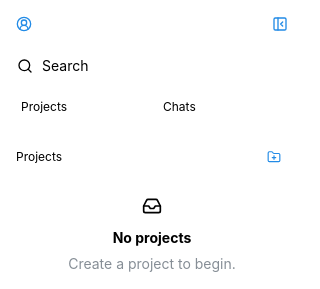
Test case: WorkspaceSidebar project reorder › collapses and expands the Chats section from the section row
What coordinates should you click on to do the following:
click the button "Chats"
I would click on:
 (223, 107)
Its box is 153,95 -> 293,119.
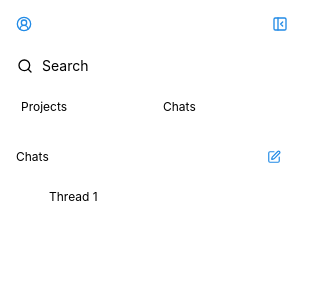
Expected: the button "Thread 1" is shown, 48,188 -> 256,206
What coordinates should you click on to do the following:
click the button with aria-label "Collapse Chats section"
I would click on:
 (136, 157)
Its box is 16,143 -> 256,171.
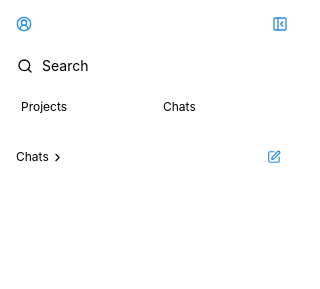
Expected: the button "Thread 1" is gone
What coordinates should you click on to do the following:
click the button with aria-label "Expand Chats section"
I would click on:
 (136, 157)
Its box is 16,143 -> 256,171.
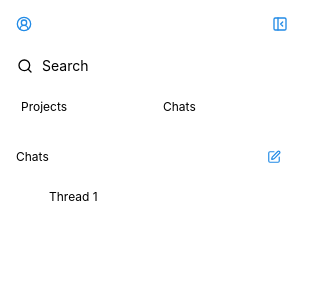
Expected: the button "Thread 1" is shown, 48,188 -> 256,206
